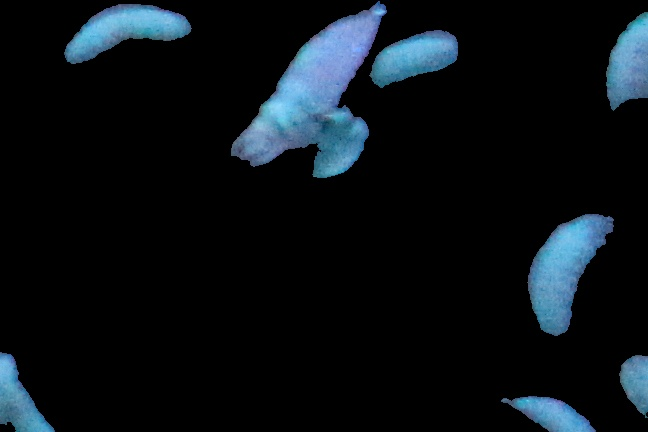larvae: (231, 15, 378, 166), (528, 217, 610, 337), (65, 10, 190, 64), (356, 29, 461, 86), (499, 386, 616, 432), (600, 11, 648, 117)
